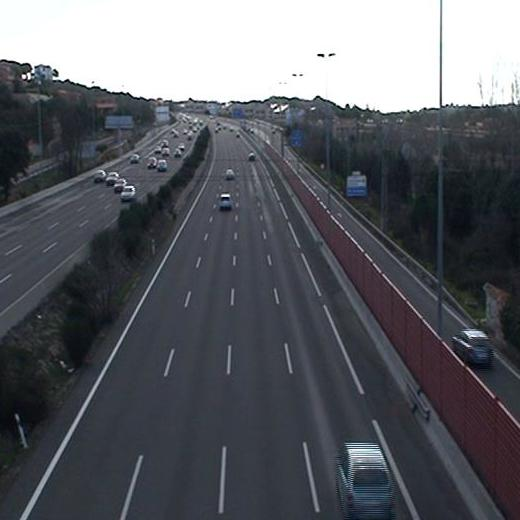car: (331, 439, 397, 520), (215, 191, 234, 213), (223, 166, 236, 181)
